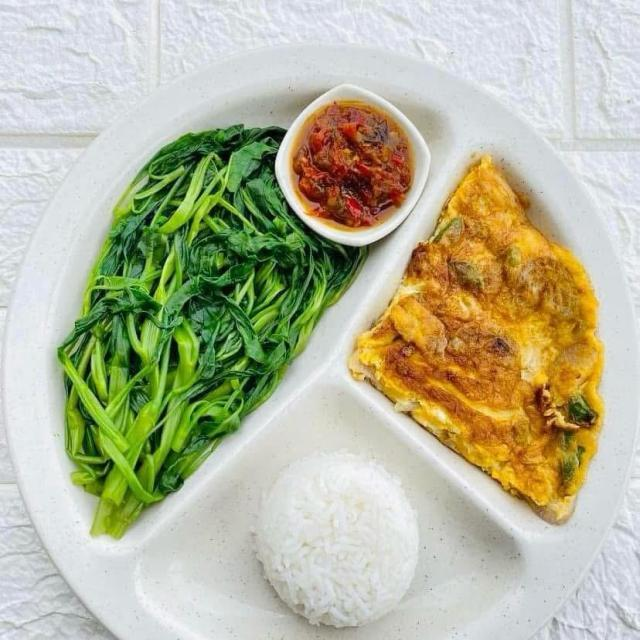Egg: (356, 156, 607, 538)
Plate: (10, 51, 637, 639)
Rice: (253, 454, 423, 628)
Vegetables: (51, 119, 370, 538)
